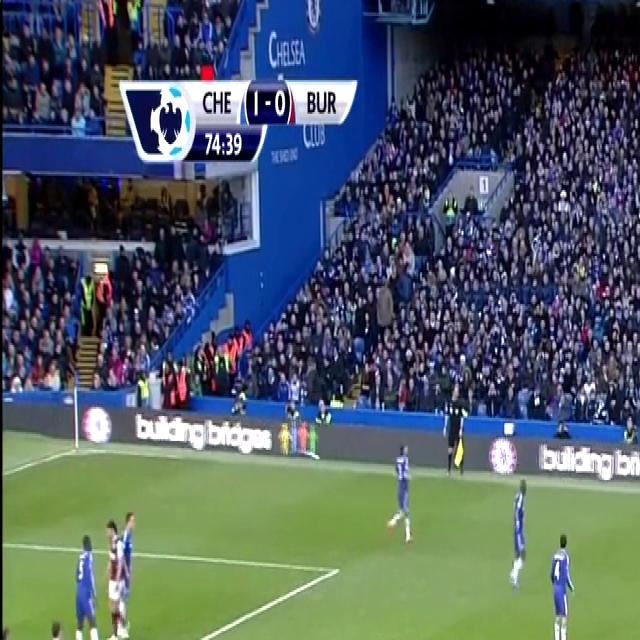referee: (438, 382, 470, 479)
soccer-player: (542, 524, 583, 640), (499, 471, 535, 596), (107, 503, 139, 640), (380, 432, 418, 547), (65, 522, 102, 640), (42, 618, 80, 640), (0, 613, 22, 640)
